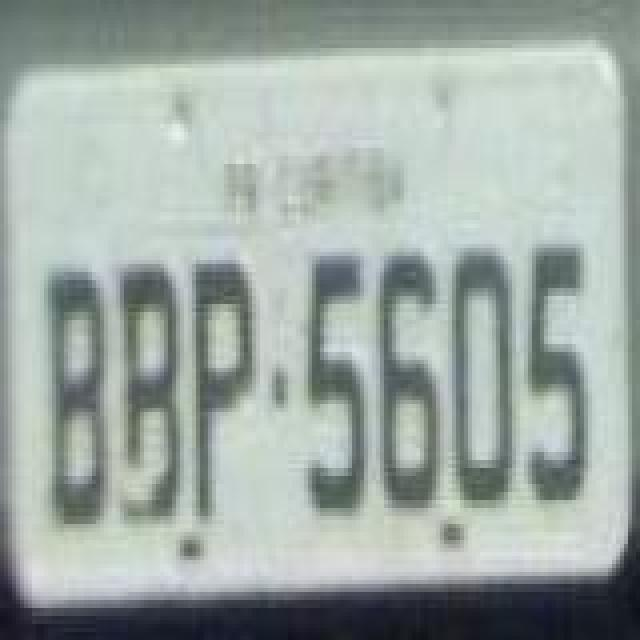5: (306, 248, 366, 520), (530, 244, 590, 508)
6: (376, 252, 440, 516)
B: (118, 256, 186, 528), (48, 268, 112, 532)
O: (450, 244, 518, 508)
P: (194, 260, 254, 524)
